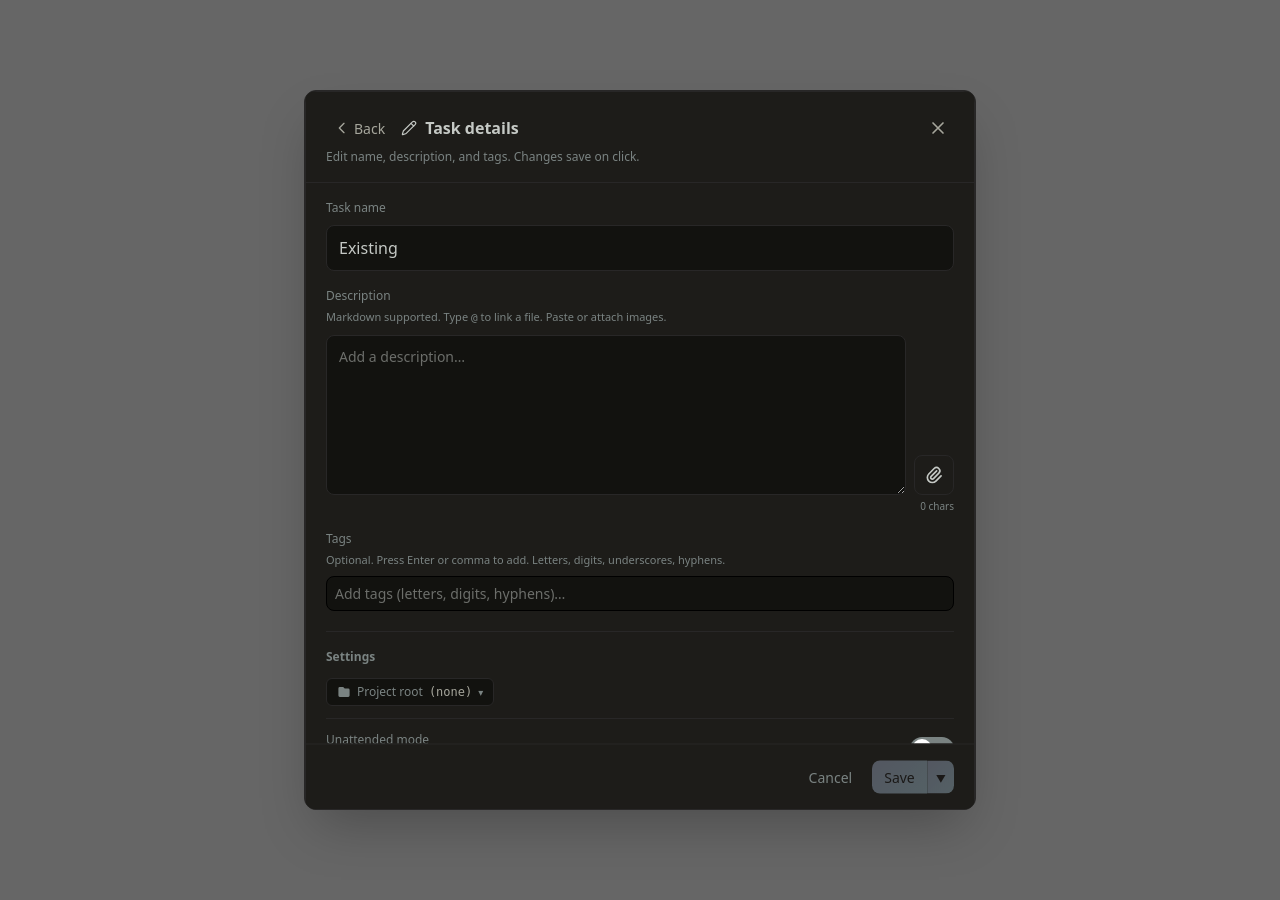
Scenario: KanbanTaskDetailDialog — creating prop (double-click guard) › edit mode is unaffected: Save stays governed by canSave even with creating=true
This screenshot has width=1280, height=900.
Expected: the button with test id "kanban-task-detail-save" is disabled, [872,760,927,793]
Expected: the button with test id "kanban-task-detail-save" reads "Save", [872,760,927,793]
Replace the text in the field with test id "kanban-task-detail-name" with "Renamed": (640, 248) [326,225,954,271]
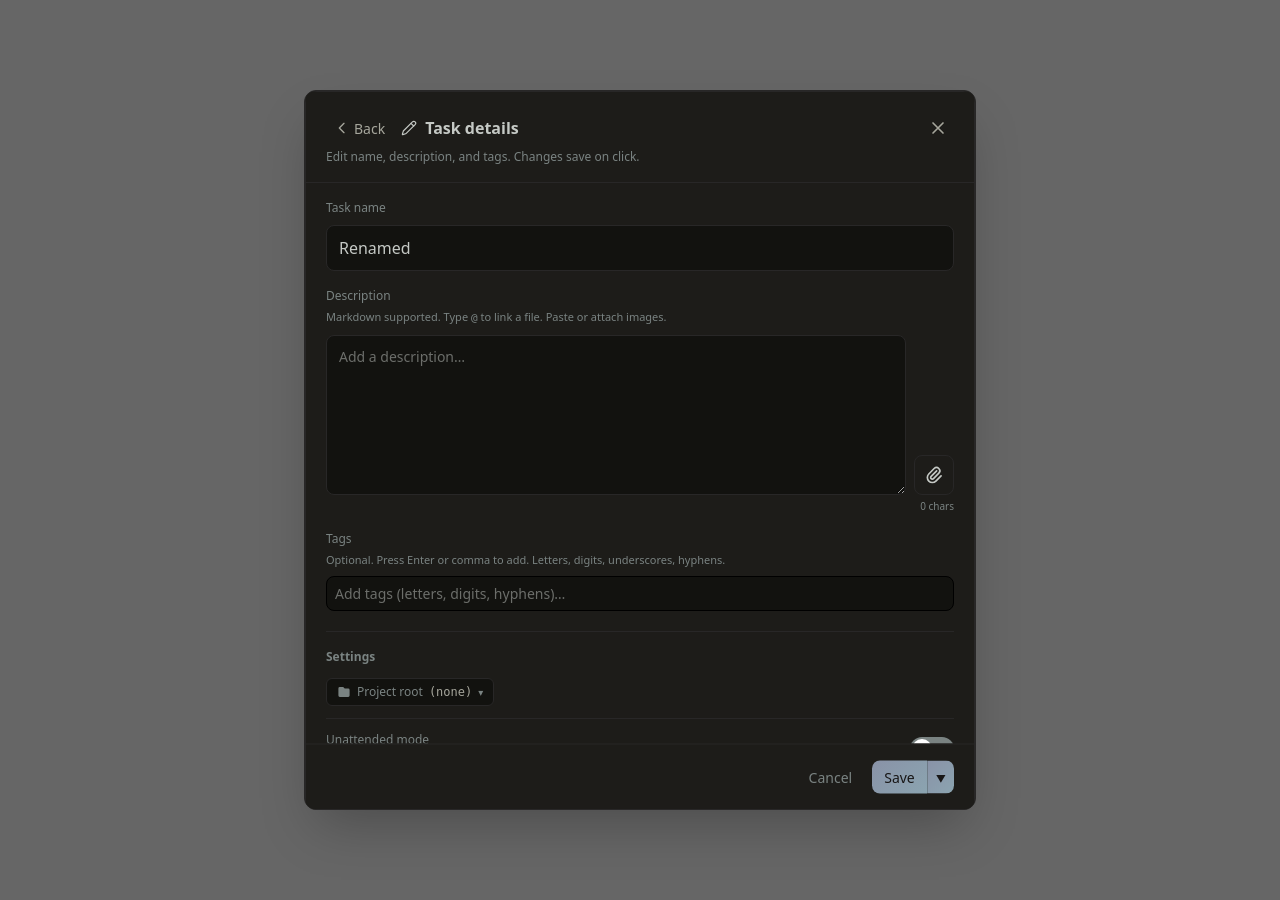
Now the button with test id "kanban-task-detail-save" is enabled, box [872,760,927,793]
